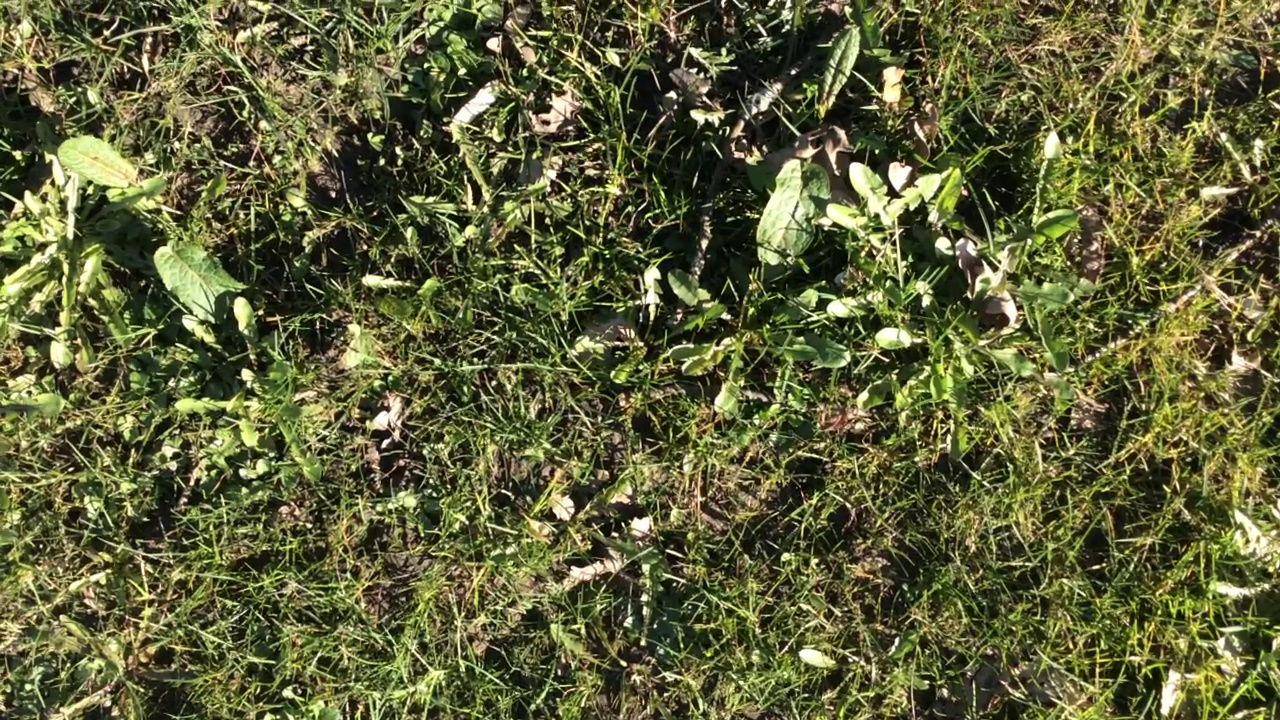rumex: (756, 161, 829, 267), (155, 242, 240, 327), (56, 137, 144, 191), (819, 22, 859, 105)
